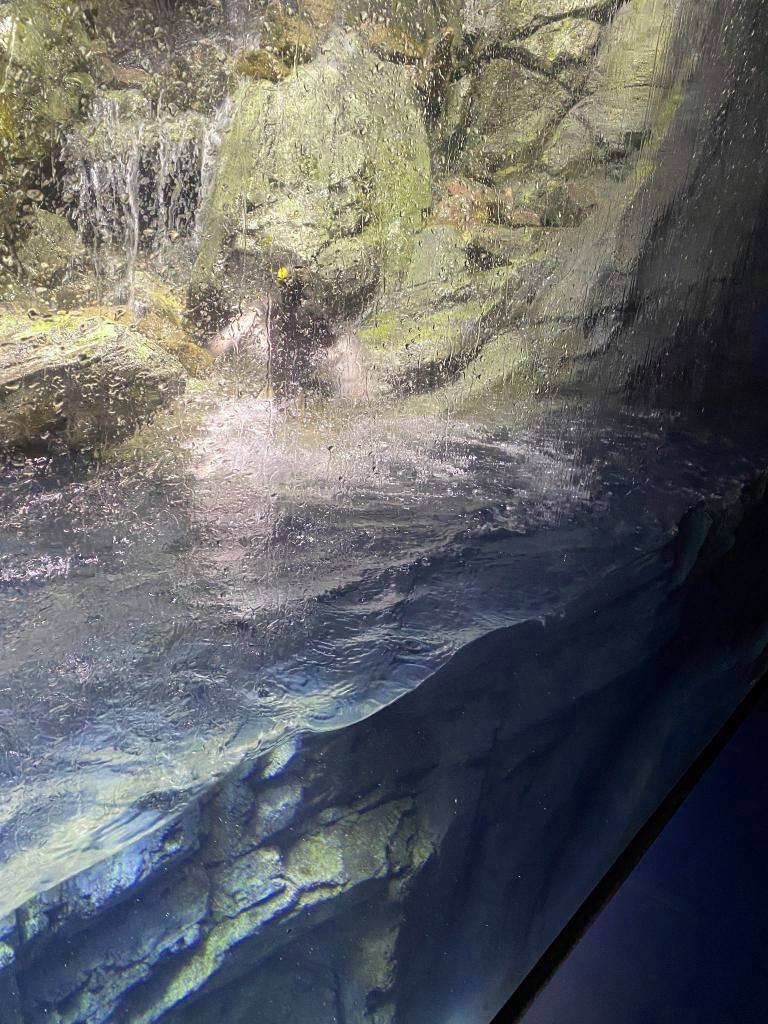puffin: (269, 258, 339, 380)
